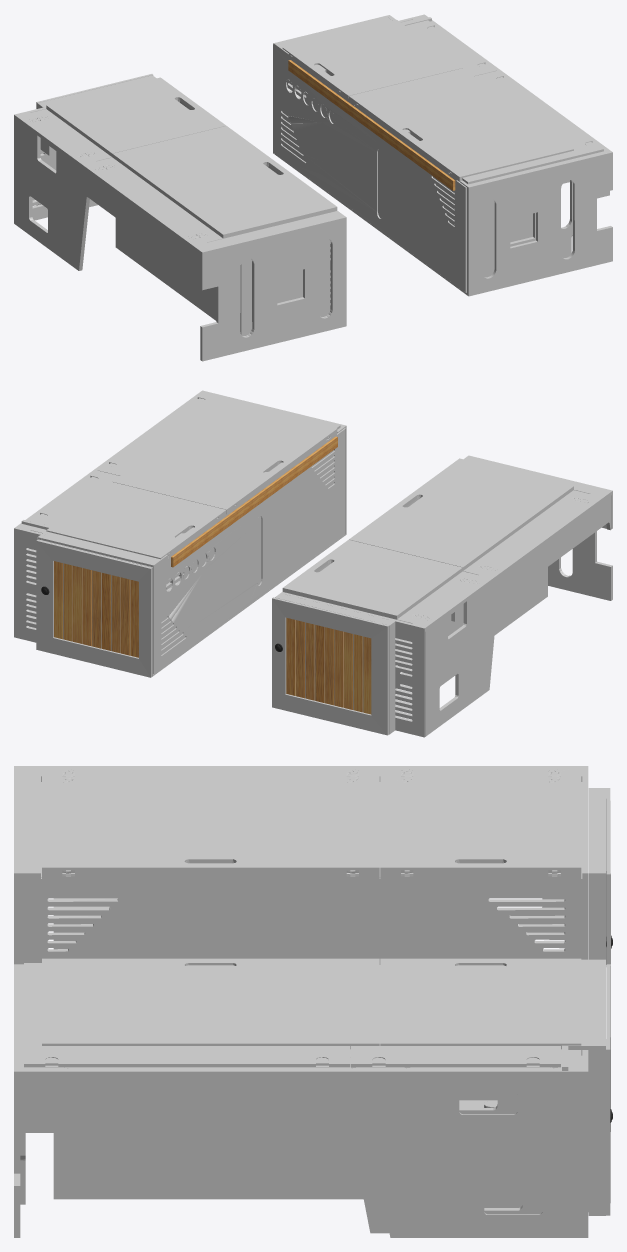
Rendered from bench-two.glb.
The picture shows the model from 3 angles, top to bottom: view 1: azimuth 30°, elevation 25°; view 2: azimuth 150°, elevation 25°; view 3: azimuth 270°, elevation 25°; orthographic projection. The views are drawn at different scales.
Parts seen in each view (by area): view 1: Document.012; view 2: Document.012; view 3: Document.012.
Part boxes in pixels (x1,y1,x2,y2): Document.012: (14,14,612,361); Document.012: (14,390,612,737); Document.012: (14,766,612,1237).
Bounding box in the file's own units: 1.73 × 0.455 × 1.44.
Materials: 3 (1 with a texture image).
